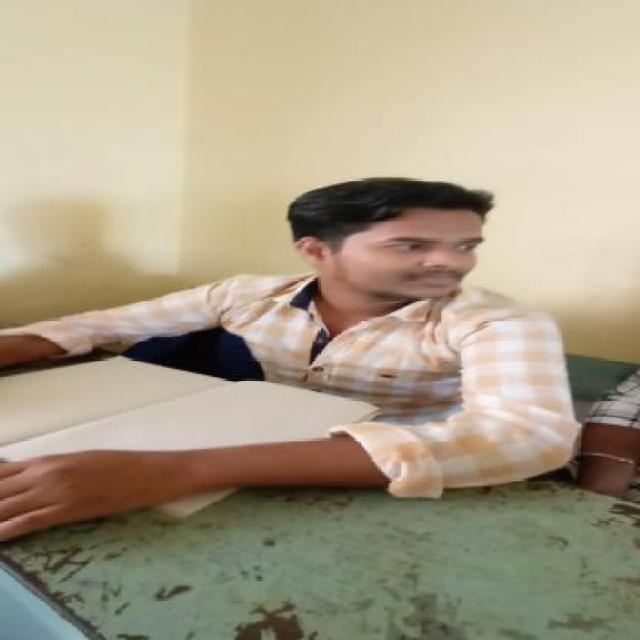cheating: (0, 166, 593, 549)
